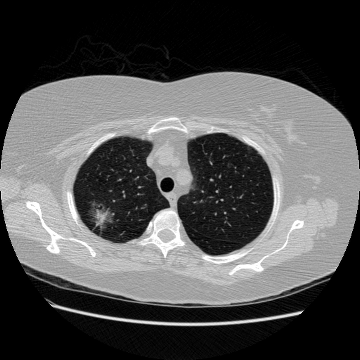nodule: (89, 205, 111, 227)
